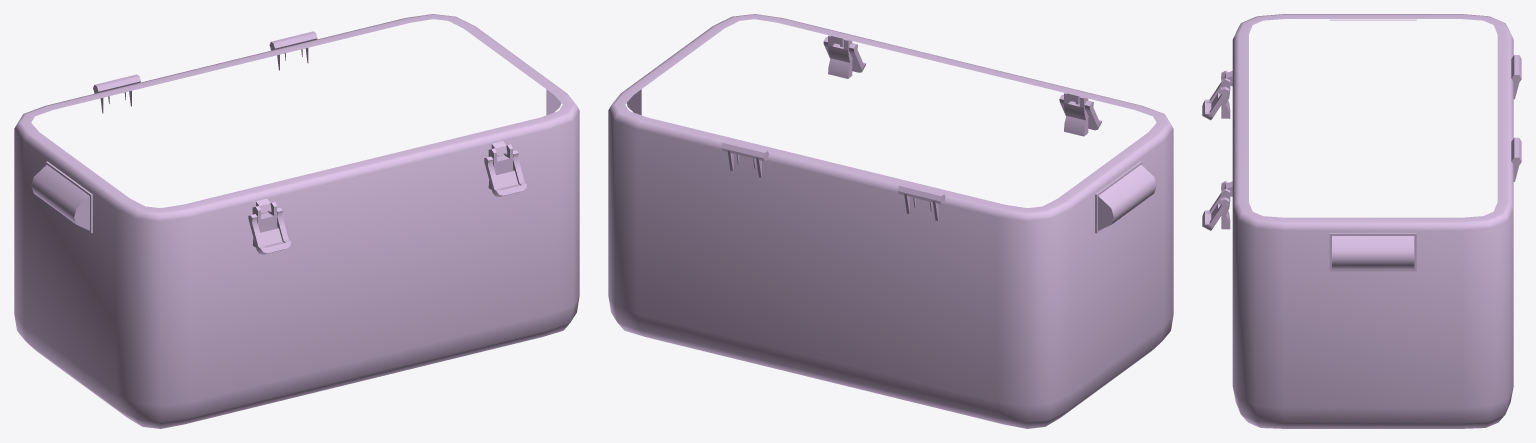
Rendered from cooler-camo.gltf.
3 renders of one model, left to right at view 1: azimuth 30°, elevation 25°; view 2: azimuth 150°, elevation 25°; view 3: azimuth 270°, elevation 25°, orthographic. The views are drawn at different scales.
Parts seen in each view (by area): view 1: Object003_1; view 2: Object003_1; view 3: Object003_1.
Boxes of the visible parts, <box> form: Object003_1: <box>14,14,579,428</box>; Object003_1: <box>608,14,1173,428</box>; Object003_1: <box>1202,14,1521,428</box>.
Bounding box in the file's own units: 549 × 243 × 323.
